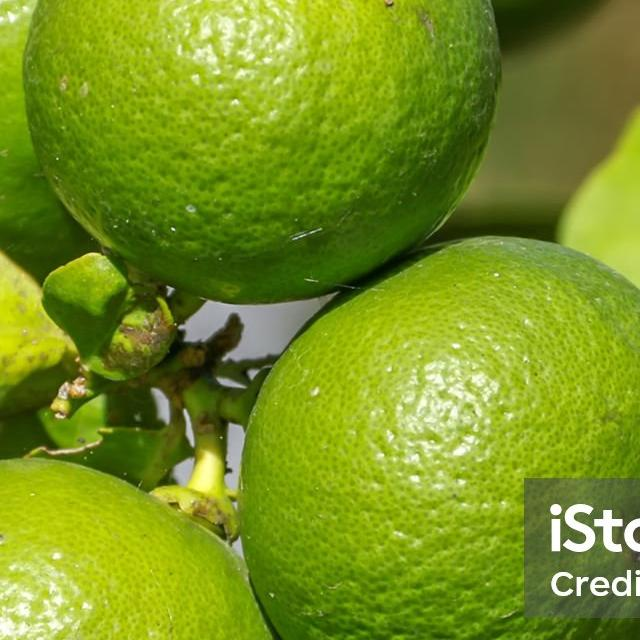lime: (231, 235, 640, 640)
